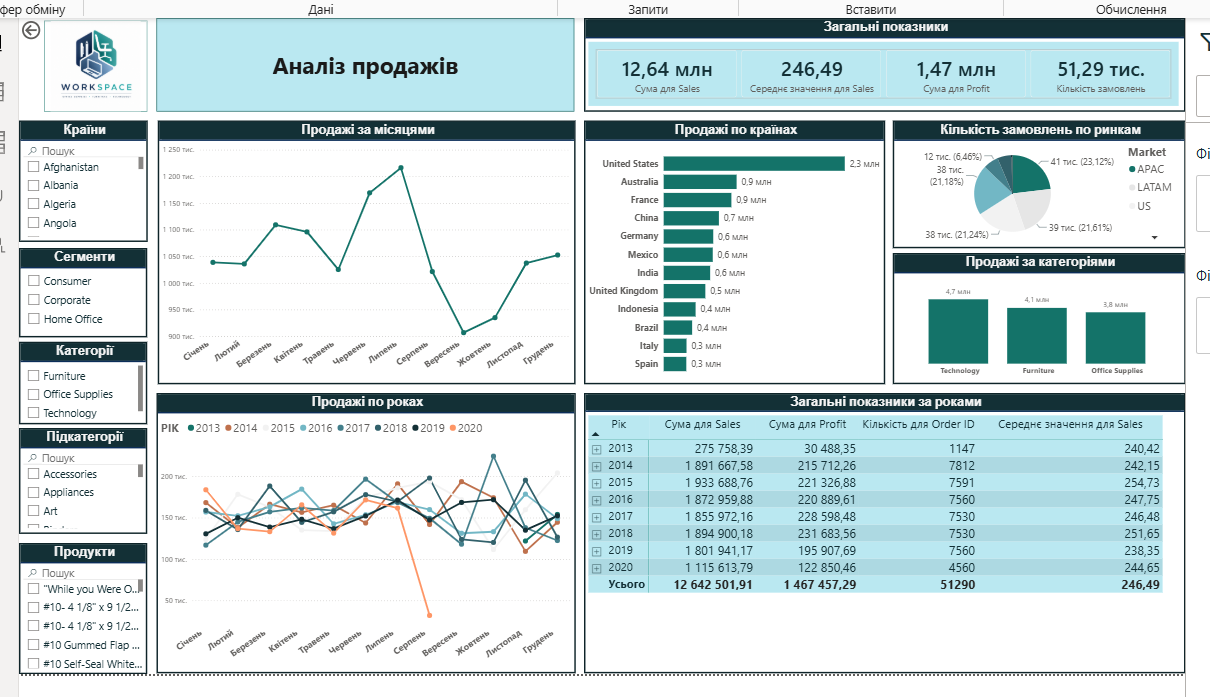

This screenshot's page, from the dashboard's own definition file:
{"tool":"powerbi","page":{"name":"Сторінка 1","canvas":[1920,1080],"ordinal":0},"visuals":[{"type":"cardVisual","title":"Загальні показники","fields":{"Data":["Sum(Sheet1.Sales1)","Avg(Sheet1.Sales1)","Sum(Sheet1.Profit1)","CountNonNull(Sheet1.Order ID)"]},"box":[930,0,990,154],"z":0},{"type":"clusteredColumnChart","title":"Продажі за категоріями","fields":{"Category":["Sheet1.Category"],"Y":["Sum(Sheet1.Sales1)"]},"box":[1438,386,482,216],"z":1000},{"type":"clusteredBarChart","title":"Продажі по країнах","fields":{"Category":["Sheet1.Country"],"Y":["Sum(Sheet1.Sales1)"]},"box":[930,168,496,434],"z":2000},{"type":"pieChart","title":"Кількість замовлень по ринкам","fields":{"Y":["Sum(Sheet1.Quantity)"],"Category":["Sheet1.Market"]},"box":[1438,168,482,210],"z":3000},{"type":"lineChart","title":"Продажі по роках","fields":{"Series":["Sheet1.YEAR"],"Y":["Sum(Sheet1.Sales1)"],"Category":["Sheet1.MonthName"]},"box":[226.7,618.3,690,461.7],"z":4000},{"type":"lineChart","title":"Продажі за місяцями","fields":{"Category":["Sheet1.MonthName"],"Y":["Sum(Sheet1.Sales1)"]},"box":[228,168,688,434],"z":5000},{"type":"pivotTable","title":"Загальні показники за роками","fields":{"Rows":["Sheet1.YEAR","Sheet1.MonthName"],"Values":["Sum(Sheet1.Sales1)","Sum(Sheet1.Profit1)","CountNonNull(Sheet1.Order ID)","Avg(Sheet1.Sales1)"]},"box":[930,618.3,990,461.7],"z":6000},{"type":"actionButton","box":[0,0,100,40],"z":7000},{"type":"slicer","title":"Сегменти","fields":{"Values":["Sheet1.Segment"]},"box":[0,378.6,211.4,147.1],"z":8000},{"type":"slicer","title":"Країни","fields":{"Values":["Sheet1.Country"]},"box":[0,168,212,200],"z":9000},{"type":"slicer","title":"Продукти","fields":{"Values":["Sheet1.Product Name"]},"box":[0,864.3,211.4,215.7],"z":10000},{"type":"slicer","title":"Підкатегорії","fields":{"Values":["Sheet1.Sub-Category"]},"box":[0,674.3,211.4,174.3],"z":11000},{"type":"slicer","title":"Категорії","fields":{"Values":["Sheet1.Category"]},"box":[0,532.9,211.4,135.7],"z":12000},{"type":"shape","box":[226,0,688,154],"z":13000},{"type":"image","box":[41.5,4.2,170.3,150],"z":14000}]}

Visuals, with their boxes in screenshot pixels (x1, y1, x2, y2):
"Загальні показники" cardVisual: pyautogui.locateOnScreen(580, 22, 1173, 114)
"Продажі за категоріями" clusteredColumnChart: pyautogui.locateOnScreen(884, 253, 1173, 383)
"Продажі по країнах" clusteredBarChart: pyautogui.locateOnScreen(580, 123, 877, 383)
"Кількість замовлень по ринкам" pieChart: pyautogui.locateOnScreen(884, 123, 1173, 249)
"Продажі по роках" lineChart: pyautogui.locateOnScreen(158, 393, 572, 669)
"Продажі за місяцями" lineChart: pyautogui.locateOnScreen(159, 123, 571, 383)
"Загальні показники за роками" pivotTable: pyautogui.locateOnScreen(580, 393, 1173, 669)
actionButton: pyautogui.locateOnScreen(22, 22, 82, 46)
"Сегменти" slicer: pyautogui.locateOnScreen(22, 249, 149, 337)
"Країни" slicer: pyautogui.locateOnScreen(22, 123, 149, 243)
"Продукти" slicer: pyautogui.locateOnScreen(22, 540, 149, 669)
"Підкатегорії" slicer: pyautogui.locateOnScreen(22, 426, 149, 531)
"Категорії" slicer: pyautogui.locateOnScreen(22, 342, 149, 423)
shape: pyautogui.locateOnScreen(158, 22, 570, 114)
image: pyautogui.locateOnScreen(47, 25, 149, 114)
